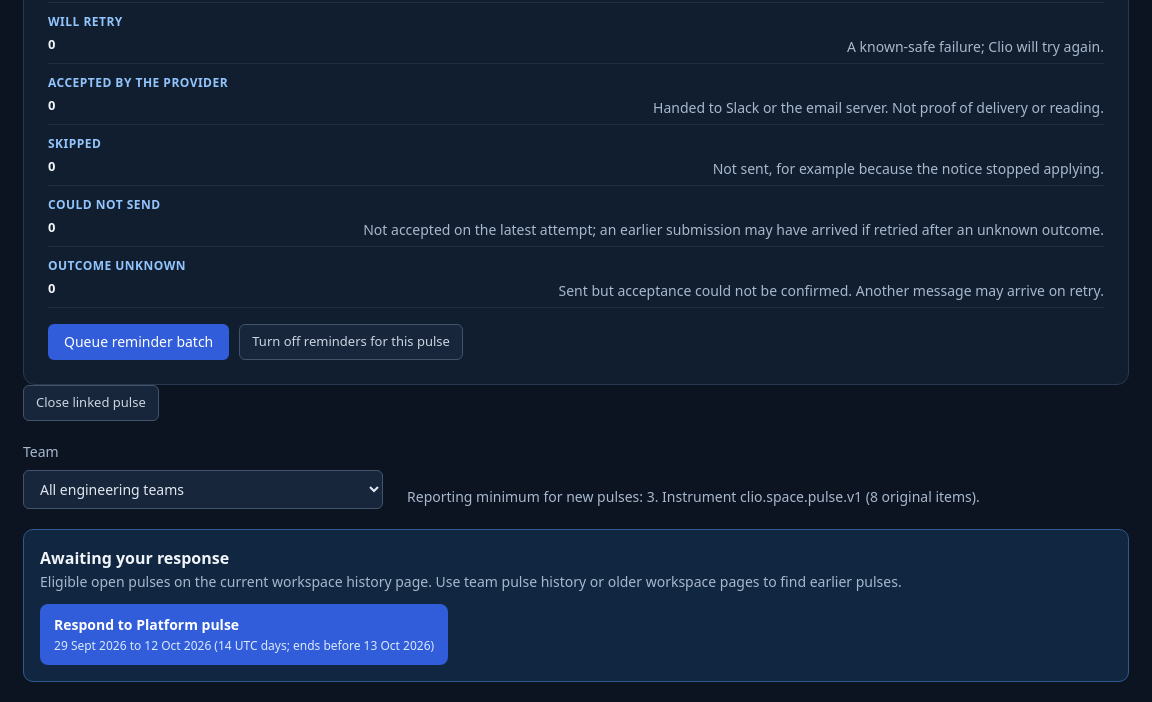
Test: owner aggregate delivery controls › queues a reminder batch only after confirmation with the current revision
(page scrolled)
Click the button "Queue reminder batch". click: (139, 342)
box: [48,324,229,360]
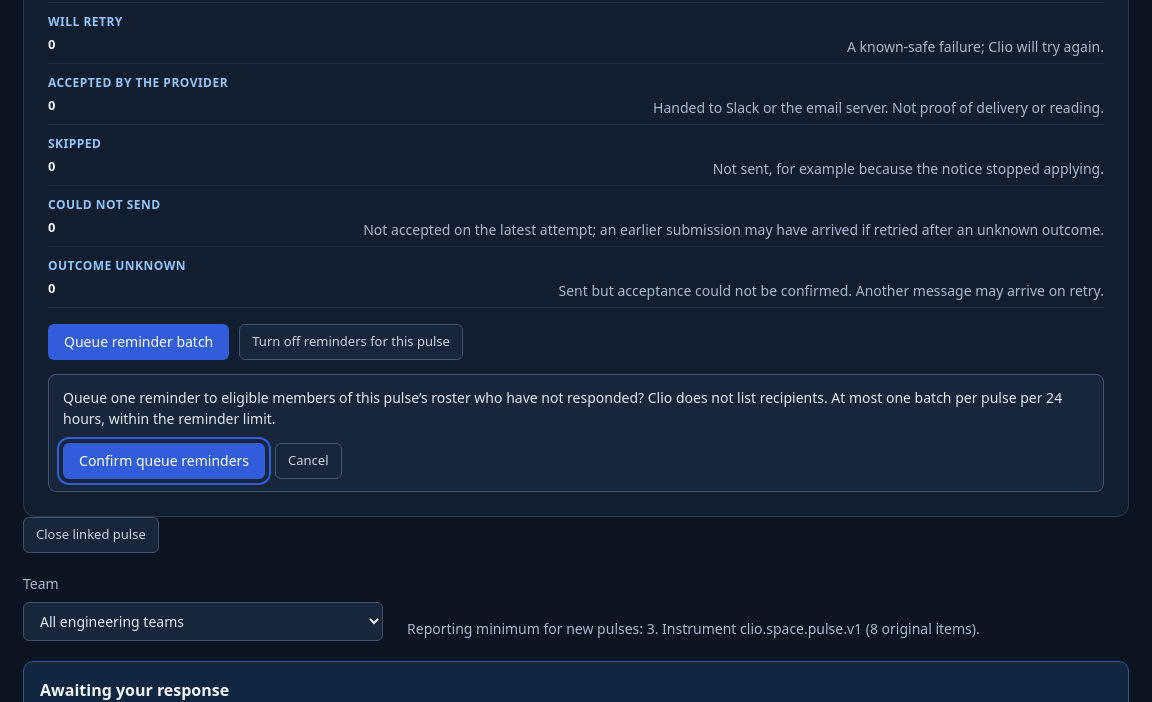
Click the button "Confirm queue reminders". click: (164, 461)
box: [63,443,265,479]
(page scrolled)
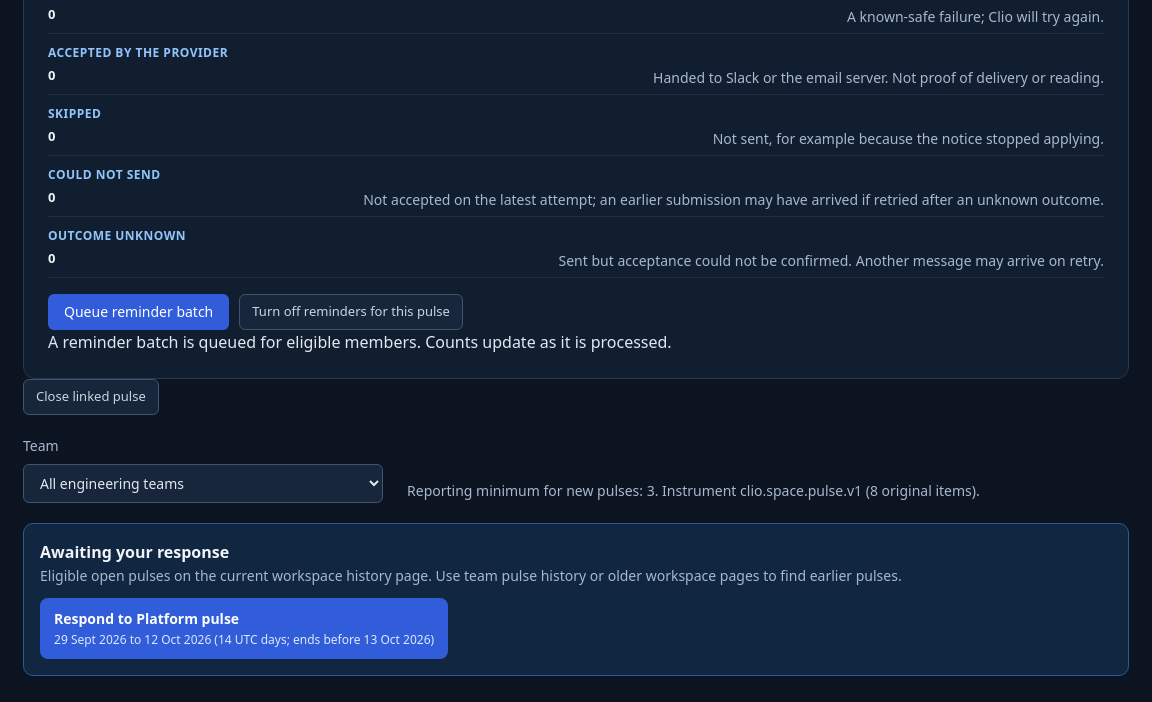
Expected: the text "reminder batch is queued" is shown, [48,331,672,353]
